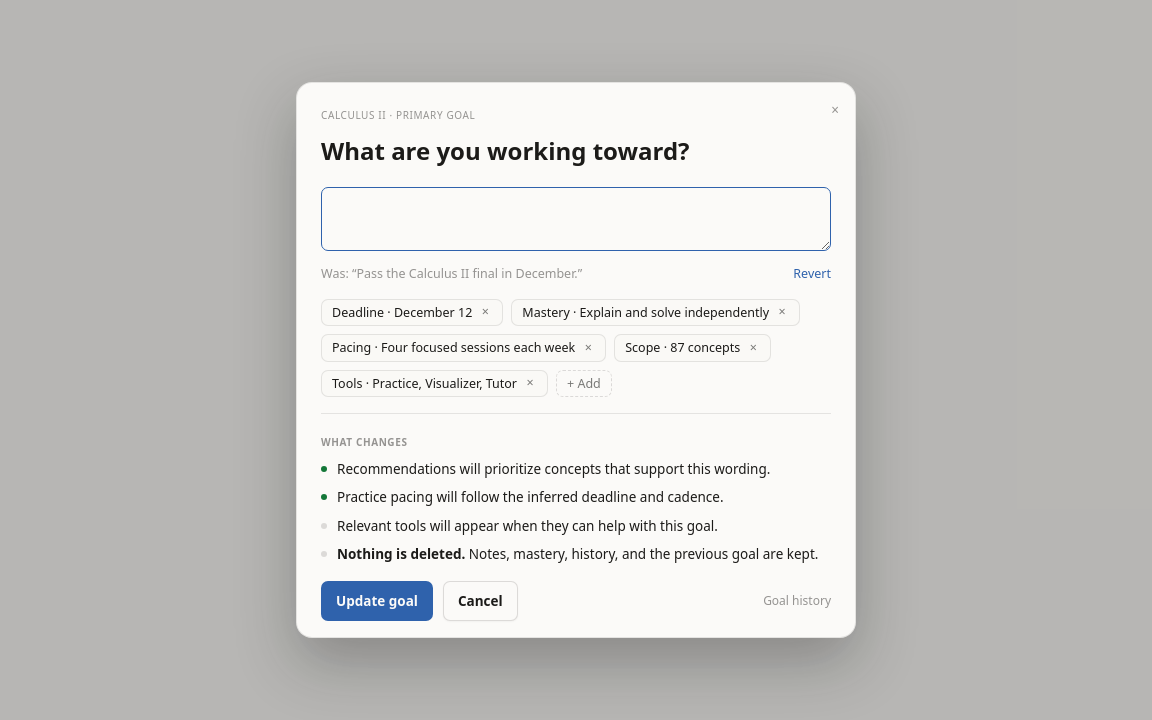
Scenario: GoalEditingSheet › allows inferred facets to be corrected without changing the goal text
Expected: the text "Tools · Practice, Visualizer, Tutor" is shown, [332, 375, 517, 392]
Click the button named "Remove Tools · Practice, Visualizer, Tutor". click: (530, 383)
box: [523, 376, 537, 390]
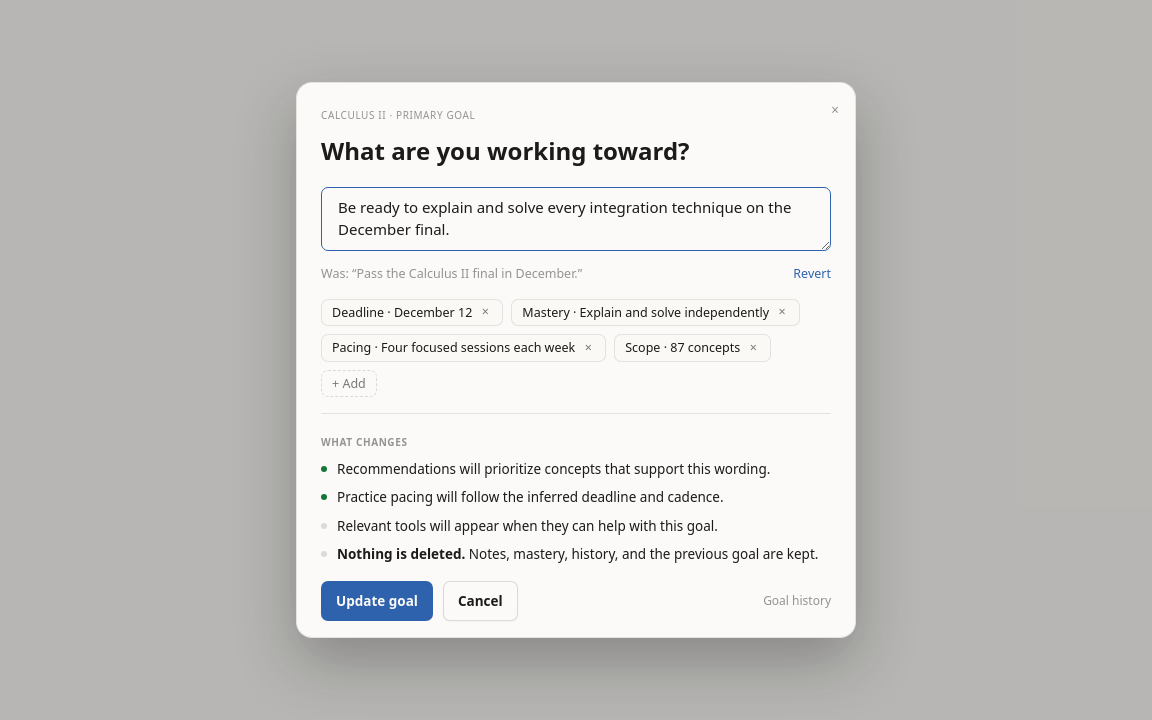
Expected: the text "Tools · Practice, Visualizer, Tutor" is gone
Click the button named "Remove Pacing · Four focused sessions each week". click: (588, 348)
box: [581, 341, 595, 355]
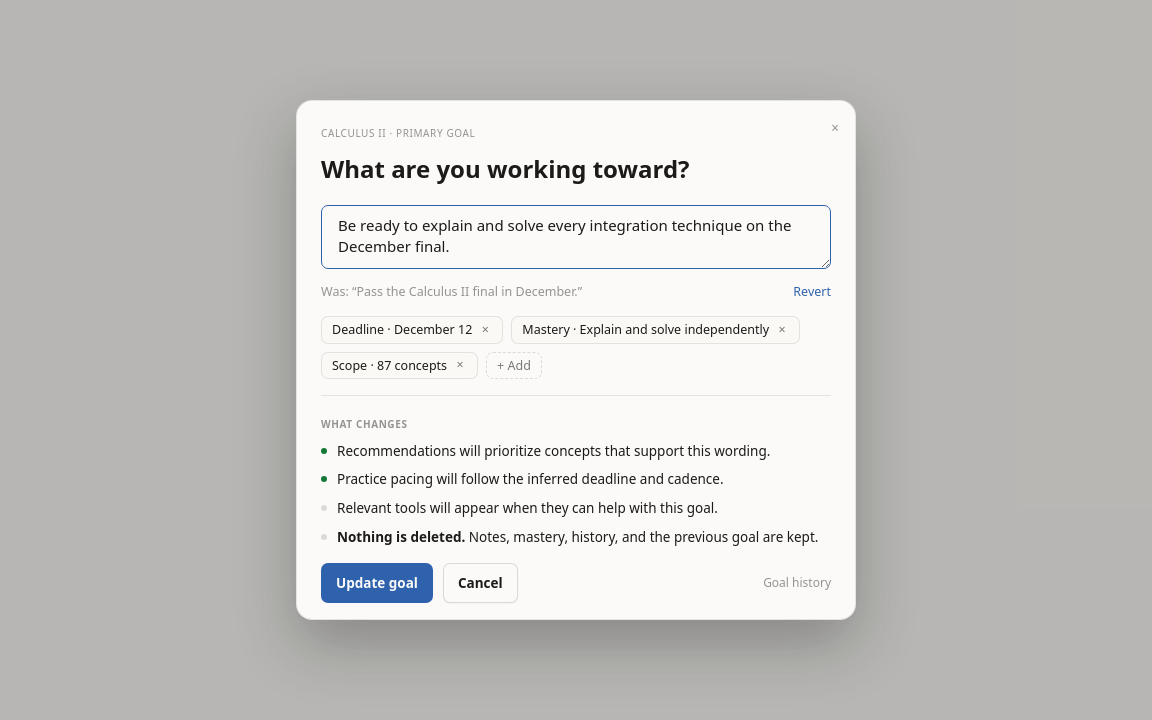
Expected: the text "Pacing · Four focused sessions each week" is gone
